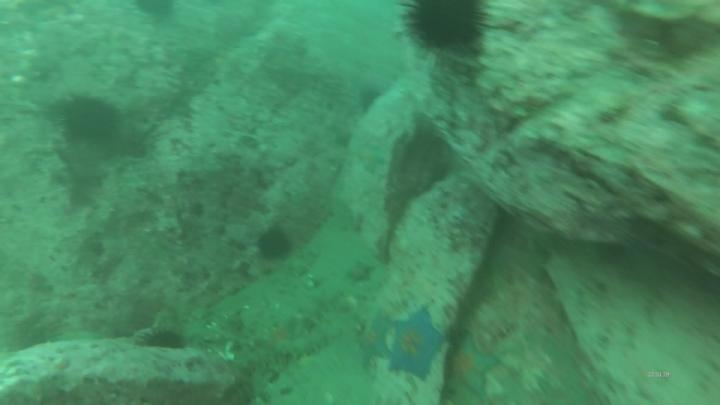echinus: (411, 3, 484, 50), (62, 101, 118, 141), (260, 230, 290, 260), (144, 330, 185, 351)
holothurian: (285, 335, 335, 356)
starfish: (394, 307, 442, 379), (450, 334, 498, 399), (359, 316, 391, 364)
